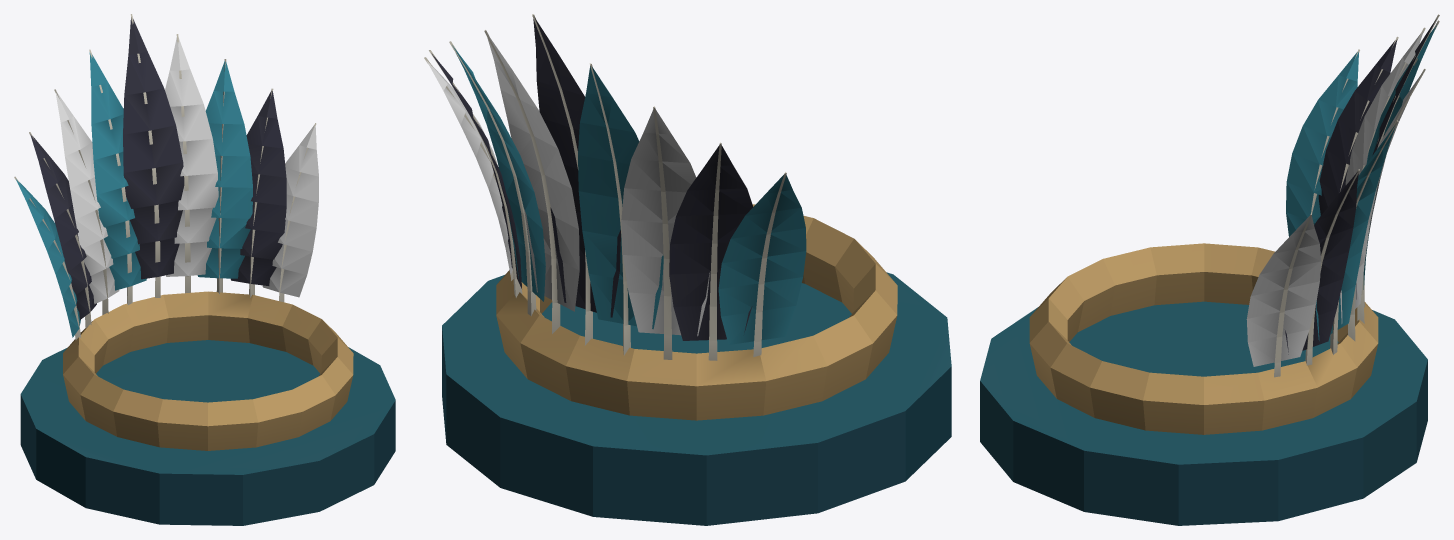
The picture shows the model from 3 angles, left to right: view 1: azimuth 30°, elevation 25°; view 2: azimuth 150°, elevation 25°; view 3: azimuth 270°, elevation 25°; orthographic projection. The views are drawn at different scales.
Visible parts, largest first — view 1: base; view 2: base; view 3: base.
Part boxes in pixels (x1,y1,x2,y2): base: [14, 14, 395, 525]; base: [424, 14, 951, 525]; base: [980, 14, 1439, 525].
Size of the model in its own units: 0.3975 by 0.4202 by 0.4081.
